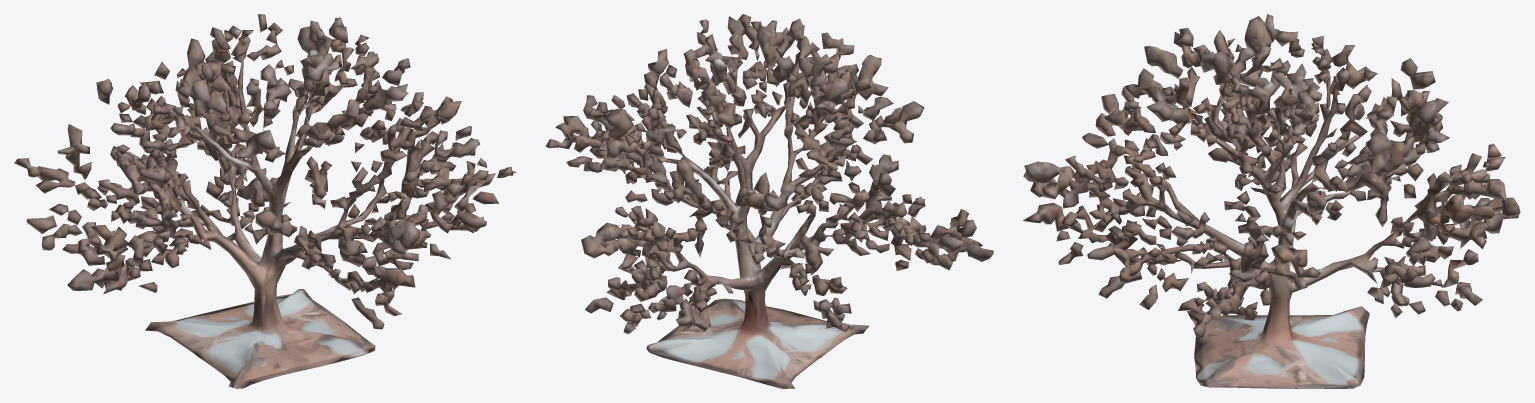
The model's file is tree_of_life.obj.
The picture shows the model from 3 angles, left to right: view 1: azimuth 30°, elevation 25°; view 2: azimuth 150°, elevation 25°; view 3: azimuth 270°, elevation 25°; orthographic projection. The views are drawn at different scales.
Parts seen in each view (by area): view 1: model; view 2: model; view 3: model.
Boxes of the visible parts, x1,y1,x2,y2 form: model: (14, 14, 516, 388); model: (545, 14, 993, 388); model: (1022, 14, 1520, 388).
Bounding box in the file's own units: 15.35 × 10 × 14.47.
